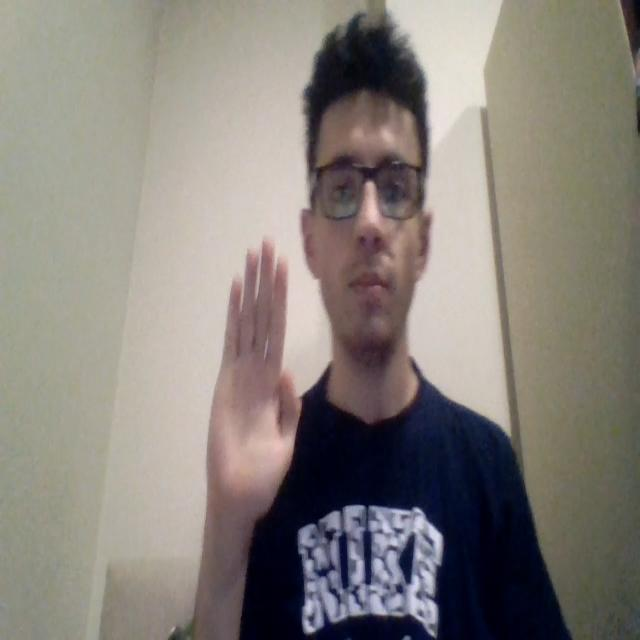hello: (202, 230, 306, 535)
